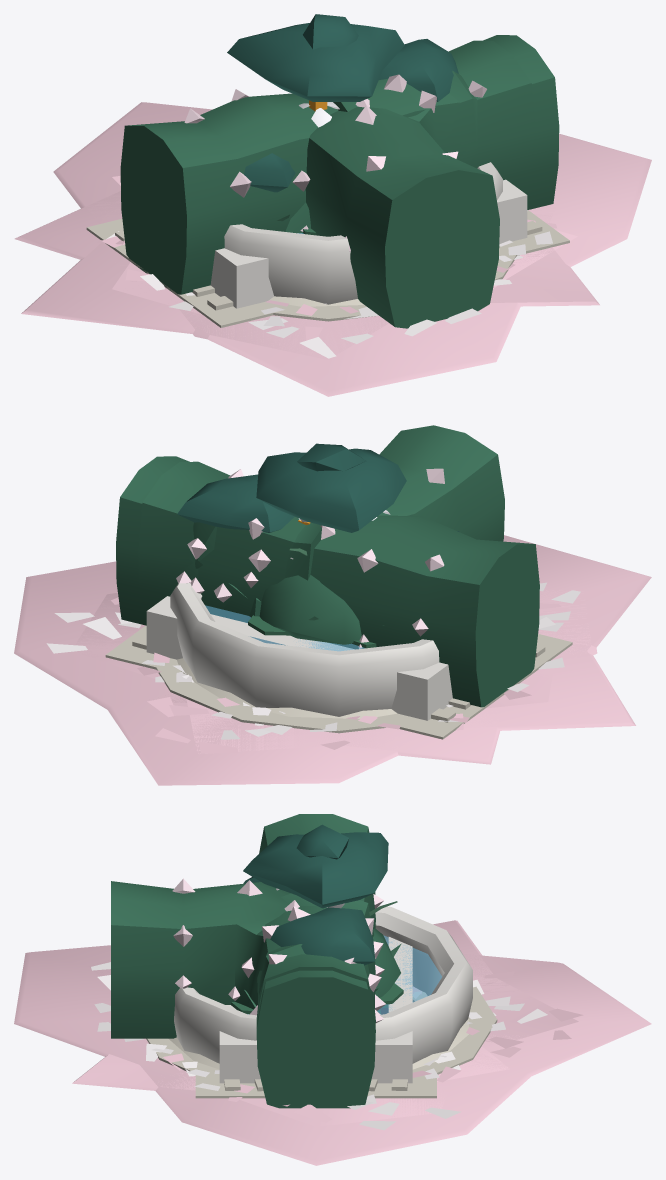
File: Dawnspire_Plants.fbx
3 renders of one model, top to bottom at view 1: azimuth 30°, elevation 25°; view 2: azimuth 150°, elevation 25°; view 3: azimuth 270°, elevation 25°, orthographic. The views are drawn at different scales.
Parts seen in each view (by area): view 1: Dawnspire_Plants_AzaleaHedgeCorner__AzaleaLeaf, Dawnspire_Plants_PetalDriftC__PetalPink, Dawnspire_Plants_AzaleaHedge6__AzaleaLeaf, Dawnspire_Plants_DwarfPine__Needle, Dawnspire_Plants_PetalDriftB__PetalPink, Dawnspire_Plants_LotusBasin__Plinth, Dawnspire_Plants_PeonyBed__Plinth, Dawnspire_Plants_GravelRakeRect__Gravel, Dawnspire_Plants_GravelRakeRound__Gravel, Dawnspire_Plants_PetalDriftA__PetalPink, Dawnspire_Plants_AzaleaHedgeEnd__AzaleaLeaf, Dawnspire_Plants_PetalDriftC__PetalWhite (+3 smaller); view 2: Dawnspire_Plants_PetalDriftC__PetalPink, Dawnspire_Plants_AzaleaHedge6__AzaleaLeaf, Dawnspire_Plants_LotusBasin__Plinth, Dawnspire_Plants_AzaleaHedgeCorner__AzaleaLeaf, Dawnspire_Plants_DwarfPine__Needle, Dawnspire_Plants_PetalDriftB__PetalPink, Dawnspire_Plants_PeonyBed__Plinth, Dawnspire_Plants_ClippedShrub__AzaleaLeaf, Dawnspire_Plants_GravelRakeRound__Gravel, Dawnspire_Plants_GravelRakeRect__Gravel, Dawnspire_Plants_PetalDriftC__PetalWhite, Dawnspire_Plants_AzaleaHedgeEnd__AzaleaLeaf (+6 smaller); view 3: Dawnspire_Plants_PetalDriftC__PetalPink, Dawnspire_Plants_AzaleaHedgeCorner__AzaleaLeaf, Dawnspire_Plants_LotusBasin__Plinth, Dawnspire_Plants_DwarfPine__Needle, Dawnspire_Plants_PetalDriftB__PetalPink, Dawnspire_Plants_PeonyBed__Plinth, Dawnspire_Plants_AzaleaHedge6__AzaleaLeaf, Dawnspire_Plants_GravelRakeRound__Gravel, Dawnspire_Plants_GravelRakeRect__Gravel, Dawnspire_Plants_PetalDriftC__PetalWhite, Dawnspire_Plants_AzaleaHedgeCorner__AzaleaBloom, Dawnspire_Plants_LotusBasin__Water (+5 smaller).
Boxes of the visible parts, left/top/right/bottom form: Dawnspire_Plants_AzaleaHedgeCorner__AzaleaLeaf: left=305, top=35, right=559, bottom=328; Dawnspire_Plants_PetalDriftC__PetalPink: left=21, top=102, right=651, bottom=396; Dawnspire_Plants_AzaleaHedge6__AzaleaLeaf: left=120, top=40, right=535, bottom=294; Dawnspire_Plants_DwarfPine__Needle: left=227, top=14, right=458, bottom=192; Dawnspire_Plants_PetalDriftB__PetalPink: left=14, top=177, right=599, bottom=359; Dawnspire_Plants_LotusBasin__Plinth: left=224, top=162, right=502, bottom=304; Dawnspire_Plants_PeonyBed__Plinth: left=210, top=179, right=527, bottom=308; Dawnspire_Plants_GravelRakeRect__Gravel: left=86, top=210, right=569, bottom=327; Dawnspire_Plants_GravelRakeRound__Gravel: left=201, top=254, right=517, bottom=321; Dawnspire_Plants_PetalDriftA__PetalPink: left=112, top=230, right=577, bottom=314; Dawnspire_Plants_AzaleaHedgeEnd__AzaleaLeaf: left=333, top=70, right=477, bottom=164; Dawnspire_Plants_PetalDriftC__PetalWhite: left=140, top=210, right=527, bottom=358; Dawnspire_Plants_PetalDriftC__PetalPink: left=14, top=535, right=651, bottom=785; Dawnspire_Plants_AzaleaHedge6__AzaleaLeaf: left=138, top=461, right=539, bottom=707; Dawnspire_Plants_LotusBasin__Plinth: left=170, top=583, right=439, bottom=716; Dawnspire_Plants_AzaleaHedgeCorner__AzaleaLeaf: left=116, top=425, right=504, bottom=624; Dawnspire_Plants_DwarfPine__Needle: left=177, top=443, right=459, bottom=532; Dawnspire_Plants_PetalDriftB__PetalPink: left=75, top=589, right=597, bottom=764; Dawnspire_Plants_PeonyBed__Plinth: left=146, top=596, right=452, bottom=720; Dawnspire_Plants_ClippedShrub__AzaleaLeaf: left=245, top=575, right=361, bottom=644; Dawnspire_Plants_GravelRakeRound__Gravel: left=145, top=649, right=461, bottom=733; Dawnspire_Plants_GravelRakeRect__Gravel: left=105, top=625, right=572, bottom=739; Dawnspire_Plants_PetalDriftC__PetalWhite: left=46, top=582, right=580, bottom=739; Dawnspire_Plants_AzaleaHedgeEnd__AzaleaLeaf: left=193, top=522, right=321, bottom=621; Dawnspire_Plants_PetalDriftC__PetalPink: left=14, top=945, right=651, bottom=1165; Dawnspire_Plants_AzaleaHedgeCorner__AzaleaLeaf: left=111, top=881, right=375, bottom=1108; Dawnspire_Plants_LotusBasin__Plinth: left=174, top=905, right=472, bottom=1063; Dawnspire_Plants_DwarfPine__Needle: left=243, top=824, right=388, bottom=965; Dawnspire_Plants_PetalDriftB__PetalPink: left=72, top=920, right=578, bottom=1126; Dawnspire_Plants_PeonyBed__Plinth: left=219, top=937, right=412, bottom=1083; Dawnspire_Plants_AzaleaHedge6__AzaleaLeaf: left=256, top=814, right=375, bottom=1026; Dawnspire_Plants_GravelRakeRound__Gravel: left=146, top=986, right=497, bottom=1074; Dawnspire_Plants_GravelRakeRect__Gravel: left=195, top=991, right=436, bottom=1098; Dawnspire_Plants_PetalDriftC__PetalWhite: left=91, top=962, right=547, bottom=1130; Dawnspire_Plants_AzaleaHedgeCorner__AzaleaBloom: left=172, top=878, right=383, bottom=1022; Dawnspire_Plants_LotusBasin__Water: left=247, top=935, right=441, bottom=1014.
Size of the model in its own units: 10.85 by 4.08 by 10.57.
